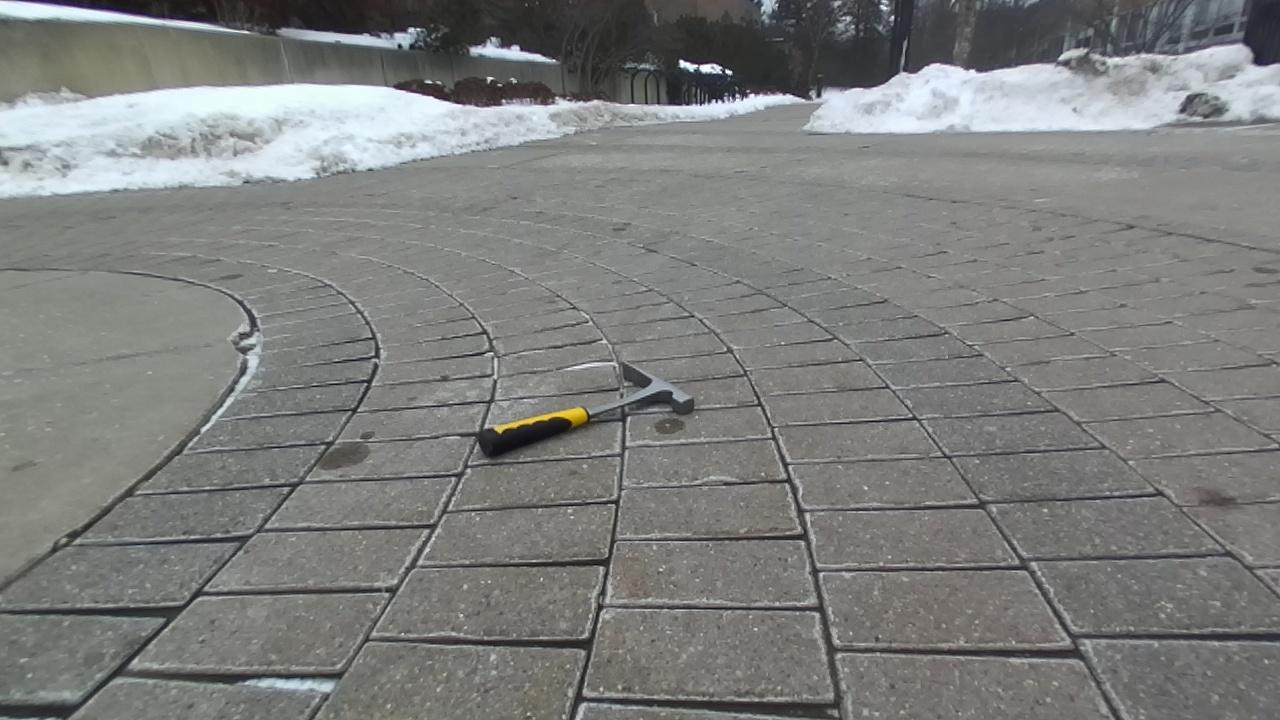pick: (479, 362, 694, 456)
